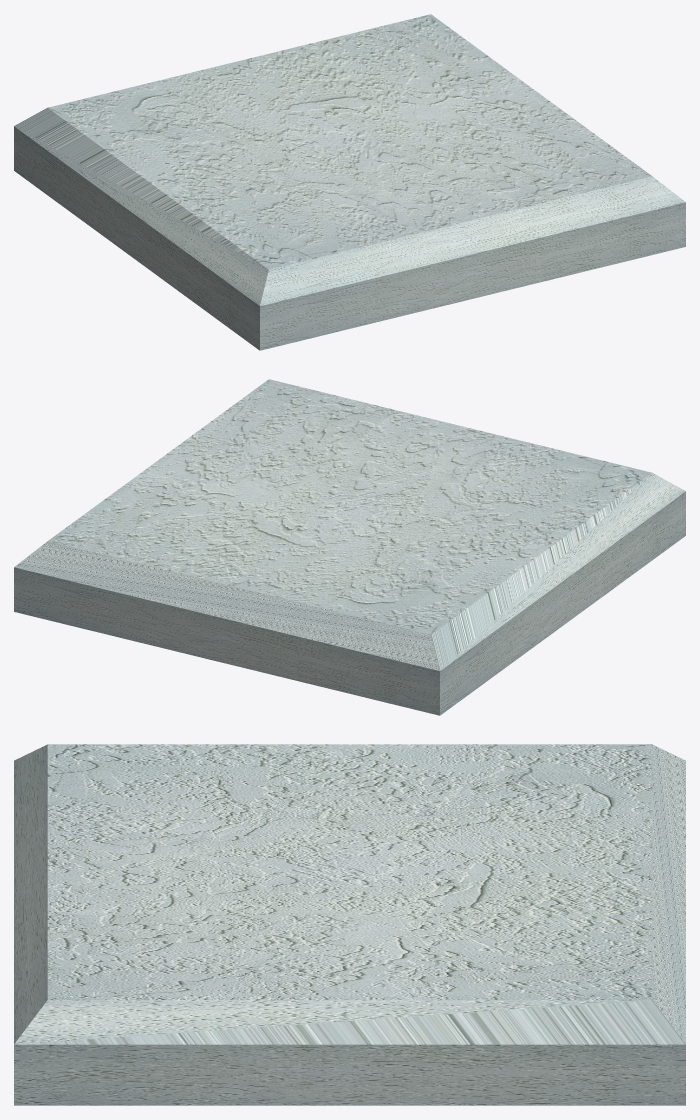
Rendered from tile.FBX.
3 views of the same model, one above another, from view 1: azimuth 30°, elevation 25°; view 2: azimuth 150°, elevation 25°; view 3: azimuth 270°, elevation 25° (orthographic). The views are drawn at different scales.
Parts seen in each view (by area): view 1: Box01; view 2: Box01; view 3: Box01.
Part boxes in pixels (x1,y1,x2,y2): Box01: [14, 14, 685, 350]; Box01: [14, 379, 685, 715]; Box01: [14, 744, 685, 1105].
Bounding box in the file's own units: 100 × 100 × 15.
Materials: 1 (1 with a texture image).
